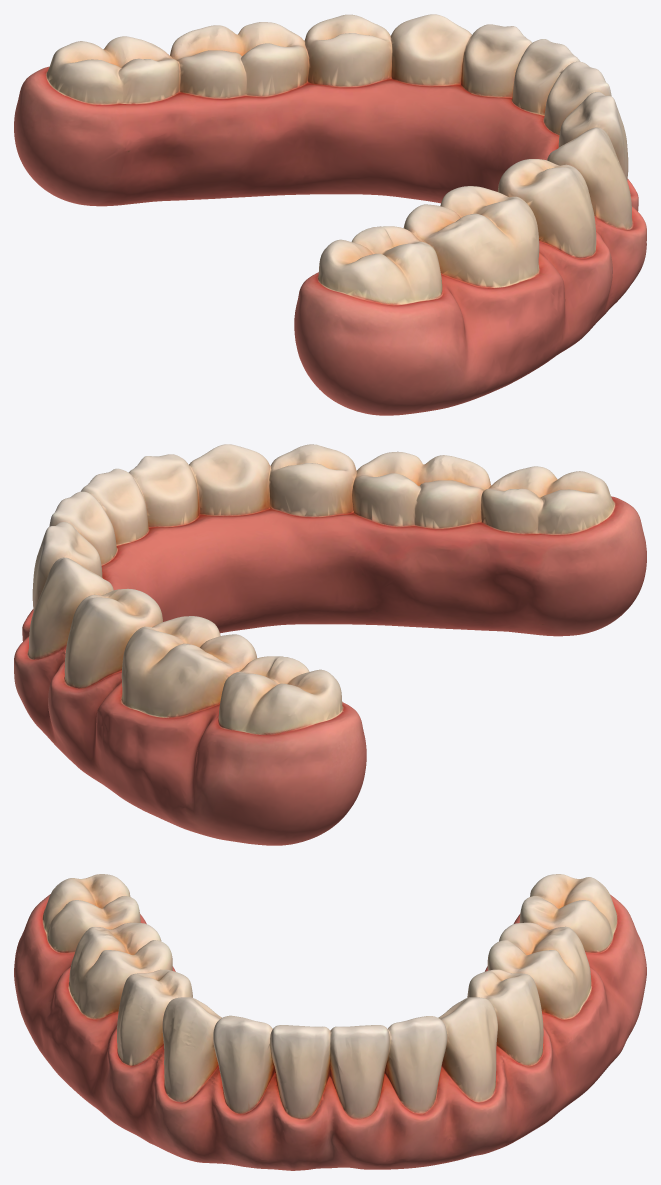
Rendered from arcada.glb.
The picture shows the model from 3 angles, top to bottom: view 1: azimuth 30°, elevation 25°; view 2: azimuth 150°, elevation 25°; view 3: azimuth 270°, elevation 25°; orthographic projection. The views are drawn at different scales.
Parts seen in each view (by area): view 1: tripo_node_b01afd7a-bafe-4d2a-ba6a-7da3f8a5b05d; view 2: tripo_node_b01afd7a-bafe-4d2a-ba6a-7da3f8a5b05d; view 3: tripo_node_b01afd7a-bafe-4d2a-ba6a-7da3f8a5b05d.
Boxes of the visible parts, x1,y1,x2,y2 form: tripo_node_b01afd7a-bafe-4d2a-ba6a-7da3f8a5b05d: (14,14,646,415); tripo_node_b01afd7a-bafe-4d2a-ba6a-7da3f8a5b05d: (14,444,646,845); tripo_node_b01afd7a-bafe-4d2a-ba6a-7da3f8a5b05d: (14,874,646,1170).
Size of the model in its own units: 0.3183 by 0.12 by 0.4474.
Materials: 1 (1 with a texture image).
